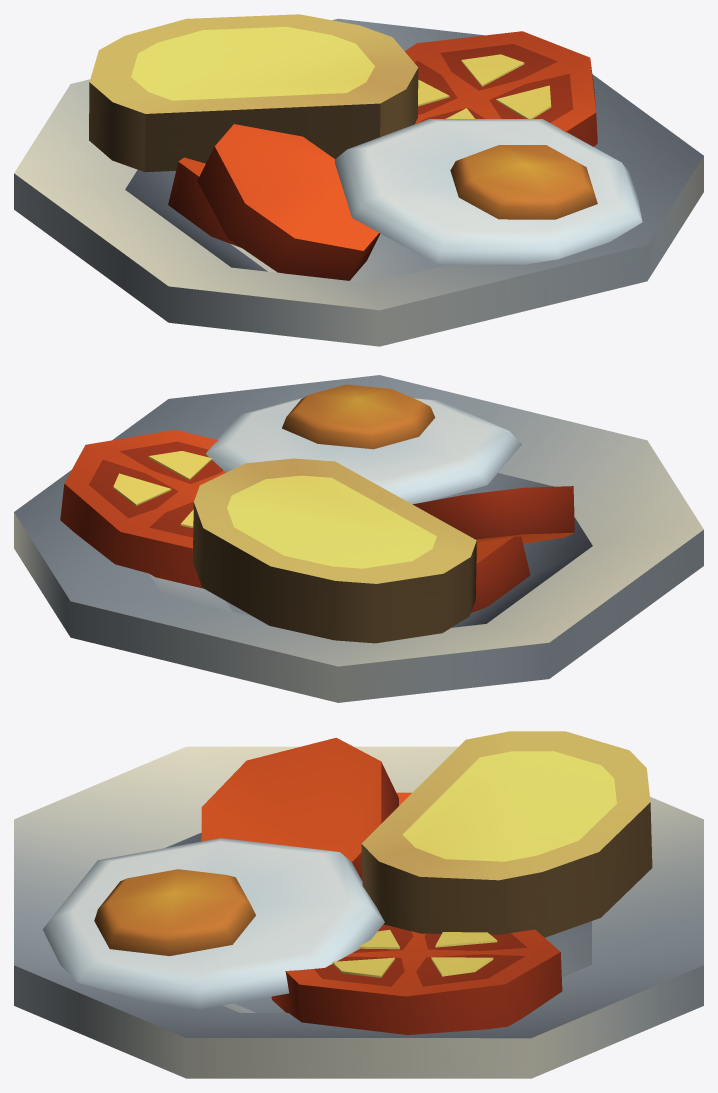
The model's file is plate_egg_bread_tomato.fbx.
3 views of the same model, one above another, from view 1: azimuth 30°, elevation 25°; view 2: azimuth 150°, elevation 25°; view 3: azimuth 270°, elevation 25° (orthographic). The views are drawn at different scales.
Visible parts, largest first — view 1: plate_egg_bread_tomato; view 2: plate_egg_bread_tomato; view 3: plate_egg_bread_tomato.
Boxes of the visible parts, box(x1,y1,x2,y2) form: plate_egg_bread_tomato: box(14, 14, 703, 346); plate_egg_bread_tomato: box(14, 375, 703, 702); plate_egg_bread_tomato: box(14, 731, 703, 1078).
Bounding box in the file's own units: 51.71 × 13.47 × 51.71.
